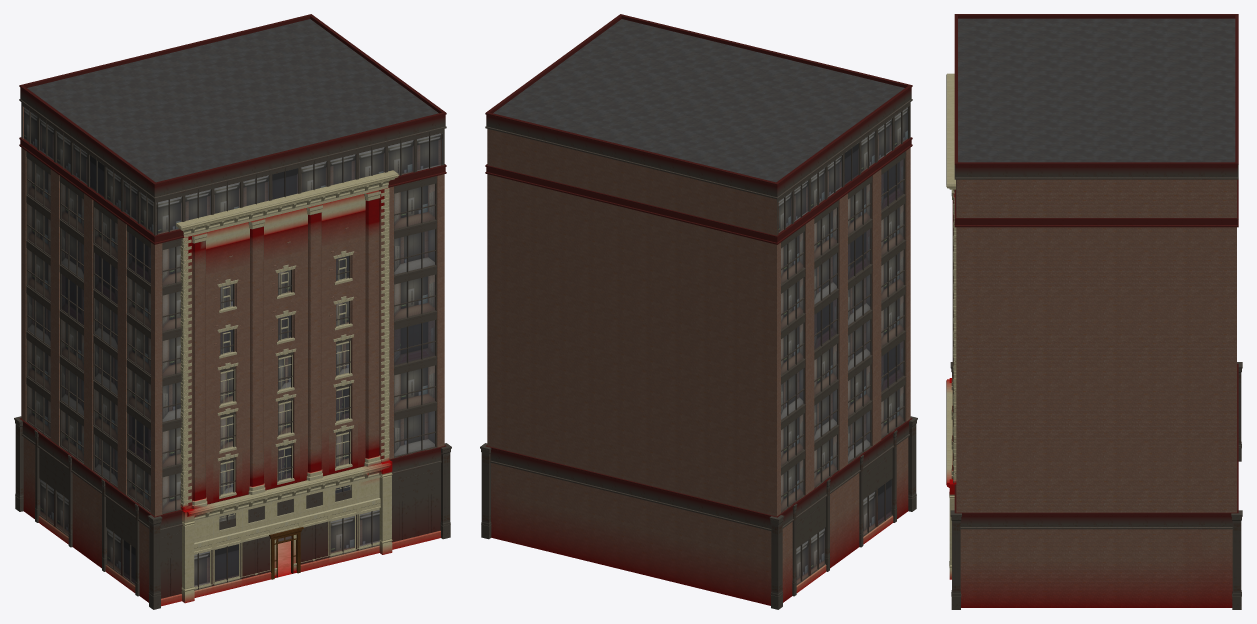
Rendered from downtown-buildings.glb.
The picture shows the model from 3 angles, left to right: view 1: azimuth 30°, elevation 25°; view 2: azimuth 150°, elevation 25°; view 3: azimuth 270°, elevation 25°; orthographic projection. The views are drawn at different scales.
Visible parts, largest first — view 1: Building_Large_2, Building_Medium_2.001; view 2: Building_Large_2; view 3: Building_Large_2, Building_Medium_2.001.
Part boxes in pixels (bbox=[...]): Building_Large_2: bbox=[14, 14, 451, 609]; Building_Medium_2.001: bbox=[176, 170, 398, 603]; Building_Large_2: bbox=[480, 14, 917, 609]; Building_Large_2: bbox=[950, 14, 1242, 609]; Building_Medium_2.001: bbox=[946, 73, 956, 579].
Size of the model in its own units: 20.64 by 28.01 by 16.89.
9 materials, 8 textured.
